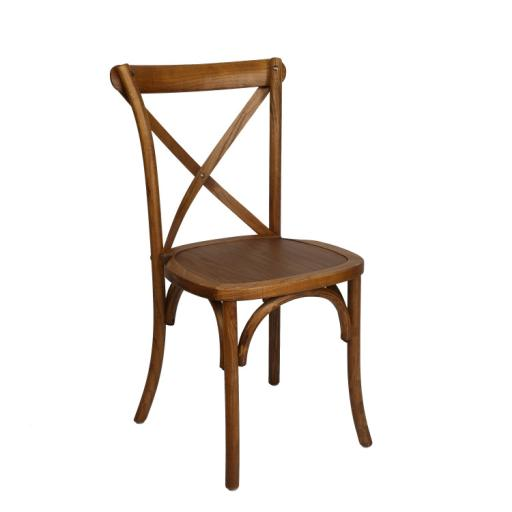chair: (99, 54, 382, 494)
